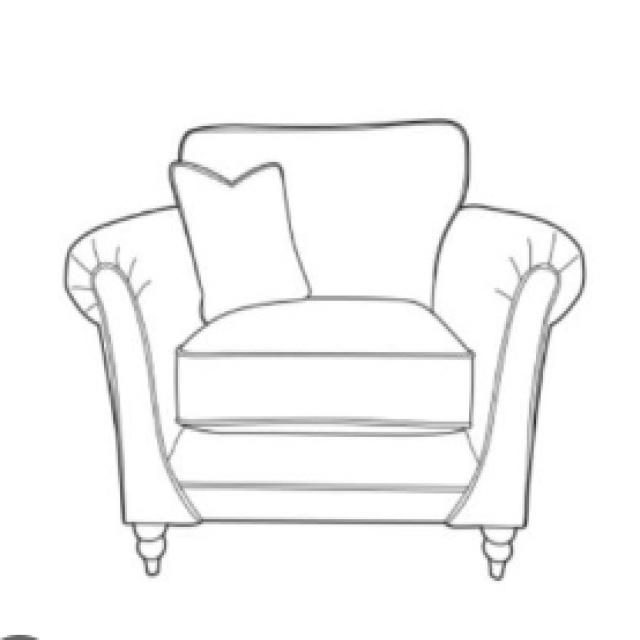Backrest: (167, 119, 476, 325)
Leg_Structure: (128, 525, 526, 583)
Seat: (175, 298, 475, 436)
sofa_armrest: (432, 204, 588, 528), (63, 205, 203, 527)
